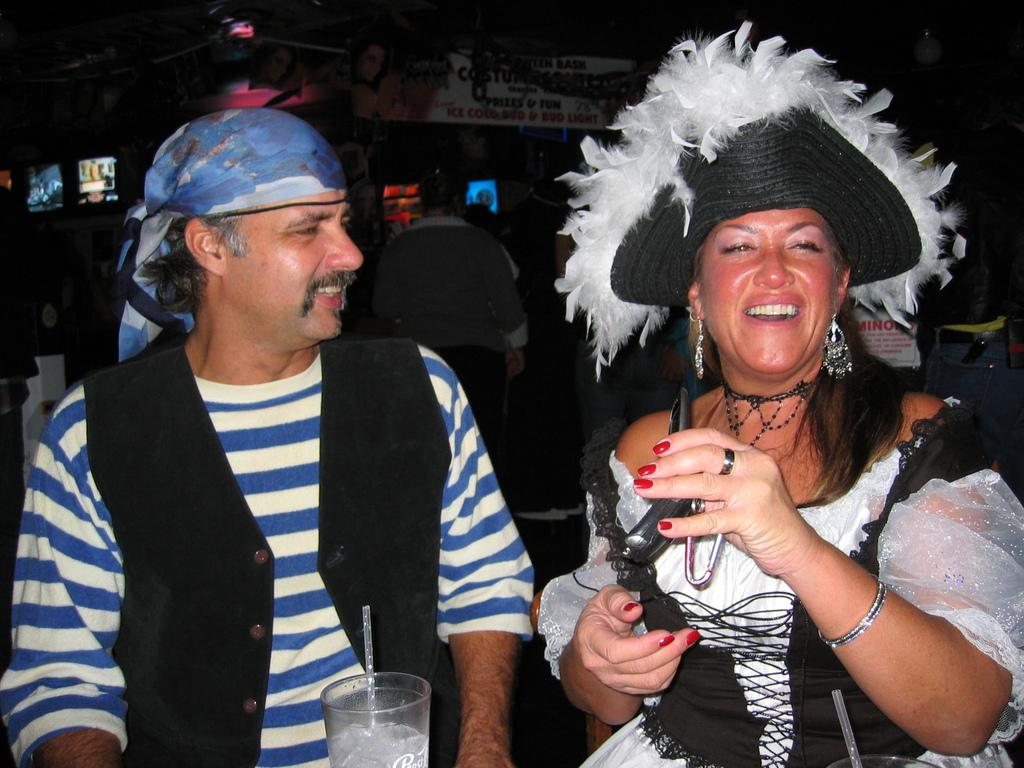Hat: (551, 21, 960, 370)
